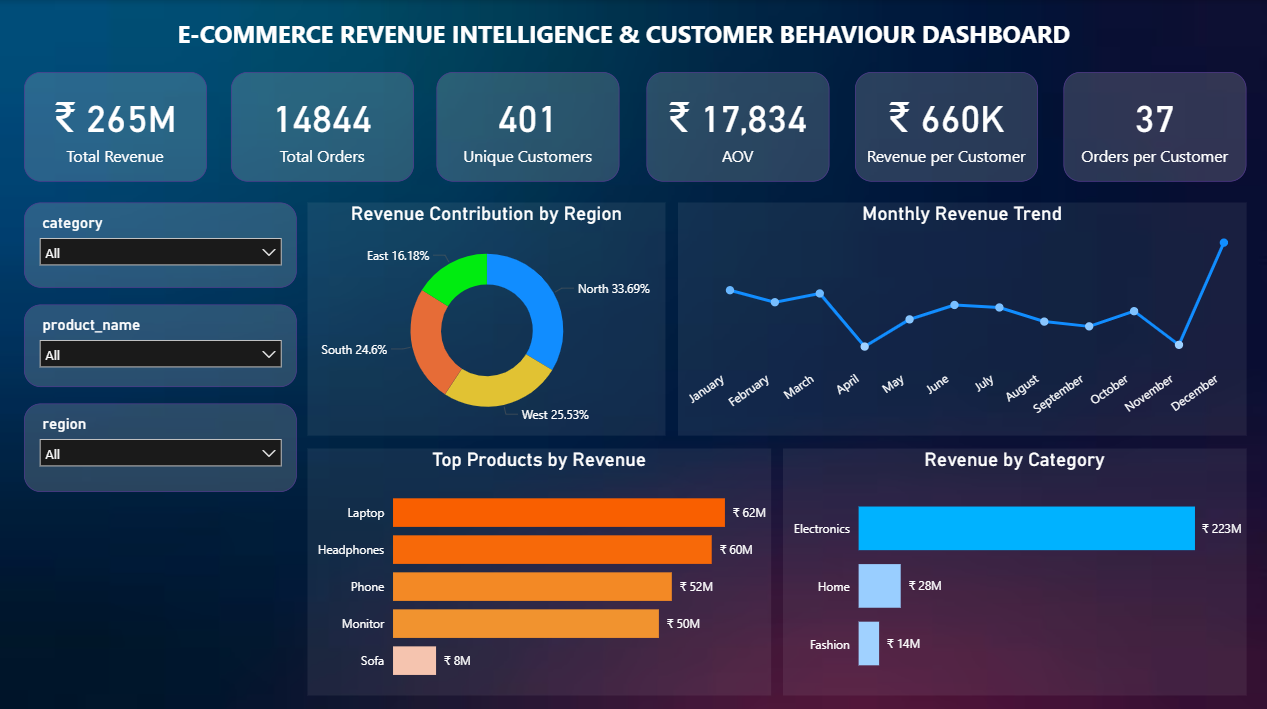

This screenshot's page, from the dashboard's own definition file:
{"tool":"powerbi","page":{"name":"EXECUTIVE OVERVIEW","canvas":[1280,720],"ordinal":0},"visuals":[{"type":"textbox","box":[174.3,11.4,931.4,44.3],"z":0},{"type":"clusteredBarChart","title":"Top Products by Revenue","fields":{"Category":["orders_cleaned.product_name"],"Y":["Sum(orders_cleaned.revenue)"]},"box":[310.8,452.3,467.7,249.2],"z":1000},{"type":"clusteredBarChart","title":"Revenue by Category","fields":{"Category":["orders_cleaned.category"],"Y":["Sum(orders_cleaned.revenue)"]},"box":[790.8,452.3,467.7,249.2],"z":2000},{"type":"donutChart","title":"Revenue Contribution by Region","fields":{"Y":["Sum(orders_cleaned.revenue)"],"Category":["orders_cleaned.region"]},"box":[310.8,204.6,361.5,235.4],"z":3000},{"type":"lineChart","title":"Monthly Revenue Trend","fields":{"Category":["orders_cleaned.order_date.Variation.Date Hierarchy.Month"],"Y":["Sum(orders_cleaned.revenue)"]},"box":[684.6,204.6,573.8,235.4],"z":4000},{"type":"card","fields":{"Values":["orders_cleaned.Total Revenue"]},"box":[24.6,72.3,184.6,110.8],"z":5000},{"type":"card","fields":{"Values":["orders_cleaned.Total Orders"]},"box":[233.8,72.3,184.6,110.8],"z":6000},{"type":"card","fields":{"Values":["orders_cleaned.Unique Customers"]},"box":[440,72.3,184.6,110.8],"z":7000},{"type":"card","fields":{"Values":["orders_cleaned.AOV"]},"box":[652.3,72.3,184.6,110.8],"z":8000},{"type":"card","fields":{"Values":["orders_cleaned.Revenue per Customer"]},"box":[863.1,72.3,184.6,110.8],"z":9000},{"type":"card","fields":{"Values":["orders_cleaned.Orders per Customer"]},"box":[1073.8,72.3,184.6,110.8],"z":10000},{"type":"slicer","fields":{"Values":["orders_cleaned.region"]},"box":[24.6,407.7,275.4,89.2],"z":11000},{"type":"slicer","fields":{"Values":["orders_cleaned.category"]},"box":[24.6,204.6,275.4,86.2],"z":12000},{"type":"slicer","fields":{"Values":["orders_cleaned.product_name"]},"box":[24.6,307.7,275.4,83.1],"z":13000}]}

Visuals, with their boxes in screenshot pixels (x1, y1, x2, y2), scaled from the page's 1280x720 canvas onto the 1267x709 screenshot:
textbox: box=[173, 11, 1094, 55]
"Top Products by Revenue" clusteredBarChart: box=[308, 445, 771, 691]
"Revenue by Category" clusteredBarChart: box=[783, 445, 1246, 691]
"Revenue Contribution by Region" donutChart: box=[308, 201, 665, 433]
"Monthly Revenue Trend" lineChart: box=[678, 201, 1246, 433]
card - orders_cleaned.Total Revenue: box=[24, 71, 207, 180]
card - orders_cleaned.Total Orders: box=[231, 71, 414, 180]
card - orders_cleaned.Unique Customers: box=[436, 71, 618, 180]
card - orders_cleaned.AOV: box=[646, 71, 828, 180]
card - orders_cleaned.Revenue per Customer: box=[854, 71, 1037, 180]
card - orders_cleaned.Orders per Customer: box=[1063, 71, 1246, 180]
slicer - orders_cleaned.region: box=[24, 401, 297, 489]
slicer - orders_cleaned.category: box=[24, 201, 297, 286]
slicer - orders_cleaned.product_name: box=[24, 303, 297, 385]
